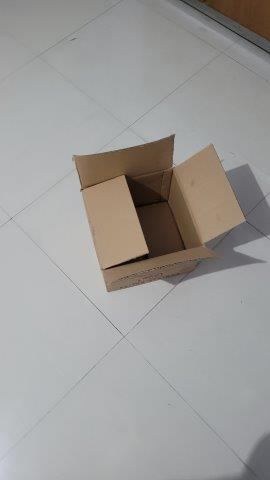kardus: (75, 134, 247, 295)
